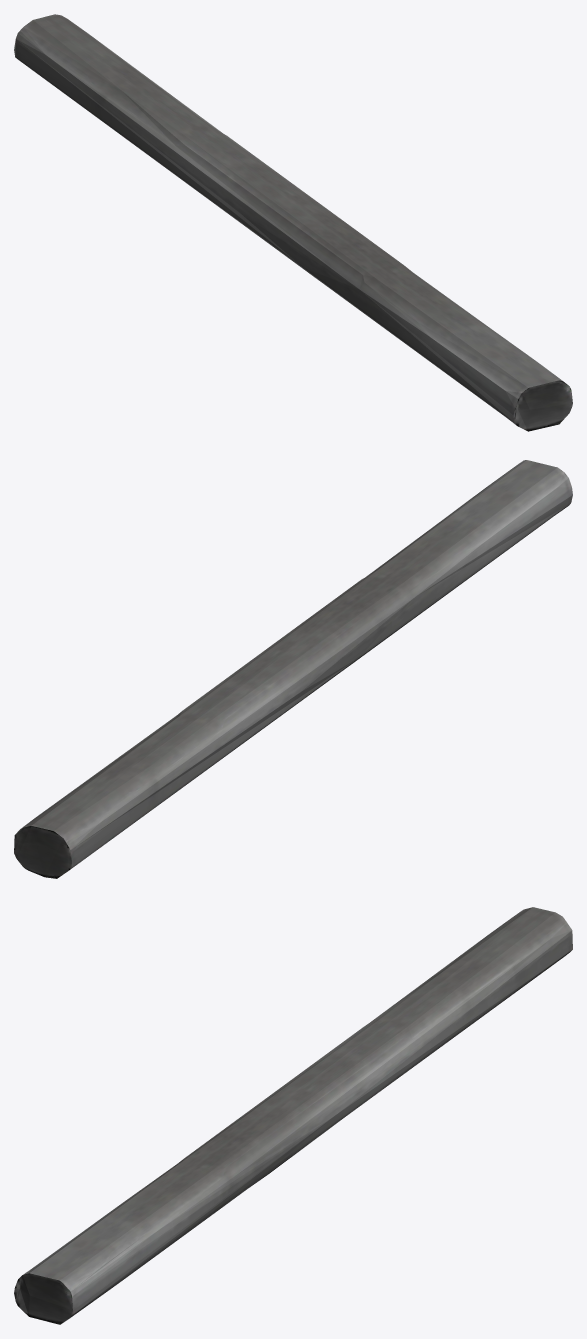
The model's file is pipe.glb.
3 views of the same model, one above another, from view 1: azimuth 30°, elevation 25°; view 2: azimuth 150°, elevation 25°; view 3: azimuth 330°, elevation 25° (orthographic).
Visible parts, largest first — view 1: geometry_0; view 2: geometry_0; view 3: geometry_0.
Boxes of the visible parts, x1,y1,x2,y2 form: geometry_0: (14, 14, 572, 431); geometry_0: (14, 460, 572, 878); geometry_0: (14, 907, 572, 1324).
Bounding box in the file's own units: 0.0698 × 0.0532 × 1.
1 material, 1 textured.
